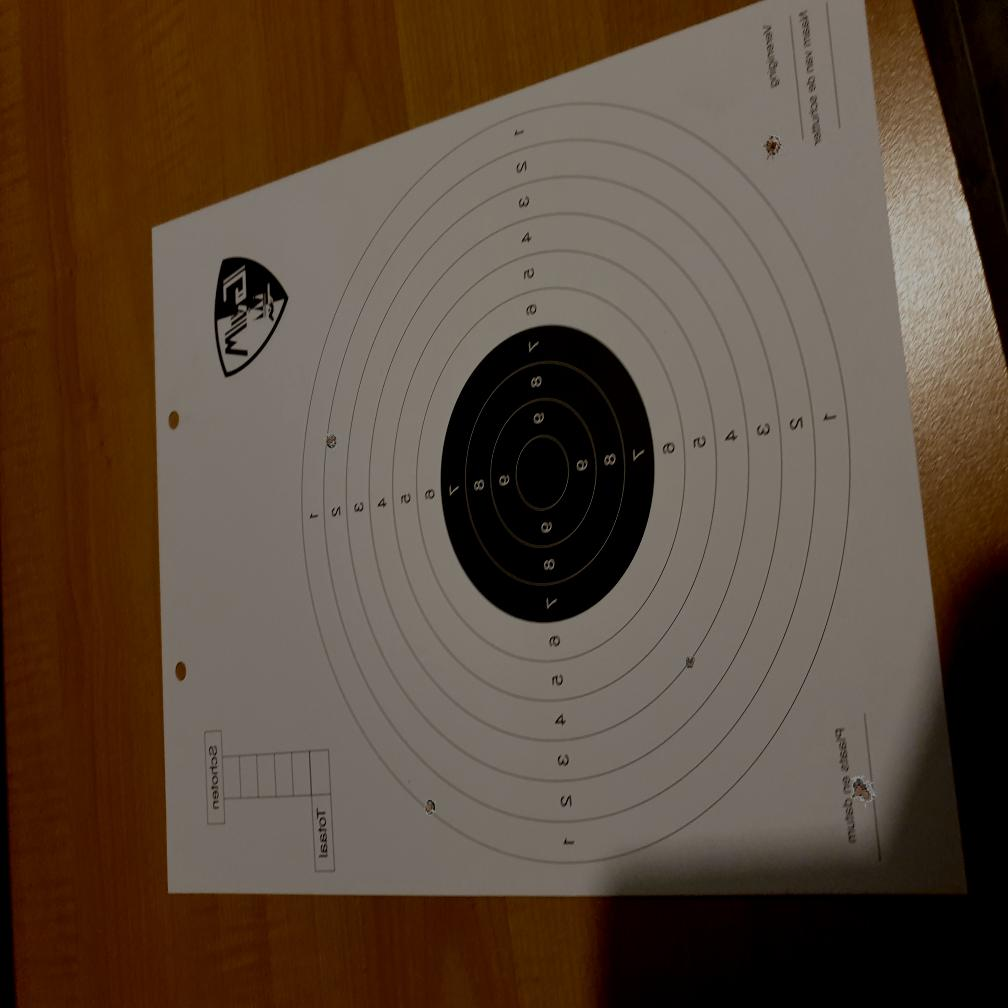0: (761, 132, 784, 162), (851, 774, 866, 800), (861, 785, 875, 804)
1: (421, 796, 438, 816)
2: (323, 431, 339, 450)
4: (684, 654, 698, 672)
Target: (301, 100, 850, 869)
black_contour: (439, 322, 656, 626)
